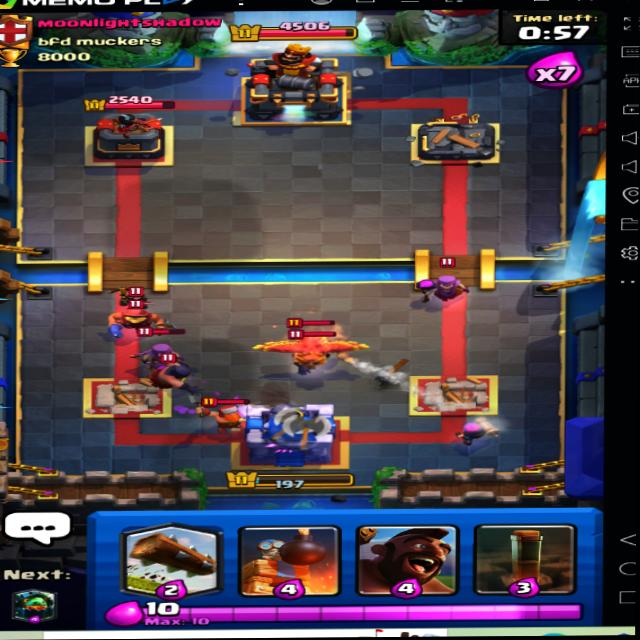Executioner: (146, 351, 206, 391)
Fisherman: (95, 287, 174, 337)
Littleprince: (109, 271, 159, 313)
Lumberjack: (198, 394, 261, 426)
Motherwitch: (419, 256, 476, 311), (123, 329, 185, 371)
Pheonix: (259, 312, 357, 366)
